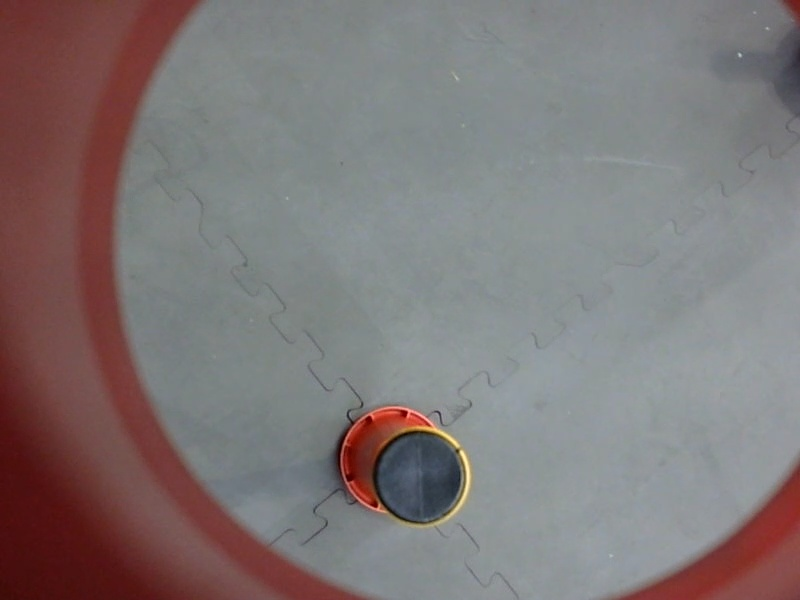tip: (367, 423, 477, 535)
